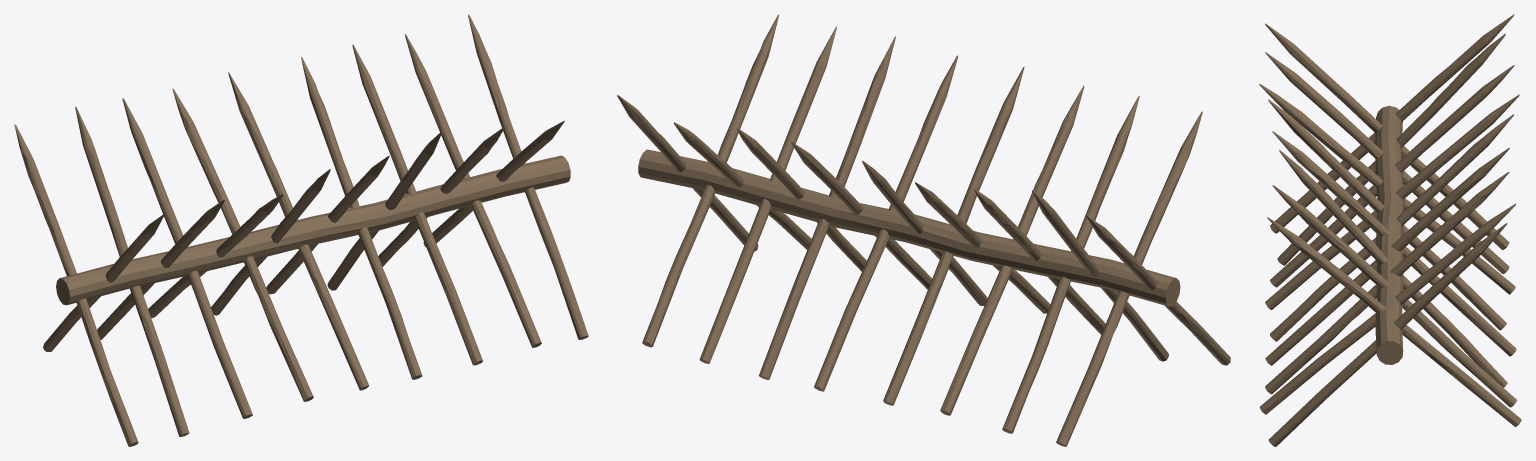
File: siege_spike_b.FBX
3 views of the same model, side by side, from view 1: azimuth 30°, elevation 25°; view 2: azimuth 150°, elevation 25°; view 3: azimuth 270°, elevation 25° (orthographic). The views are drawn at different scales.
Visible parts, largest first — view 1: siege_spike_b; view 2: siege_spike_b; view 3: siege_spike_b.
Part boxes in pixels (bbox=[...]): siege_spike_b: bbox=[14, 14, 588, 446]; siege_spike_b: bbox=[617, 14, 1230, 446]; siege_spike_b: bbox=[1259, 14, 1521, 446].
Bounding box in the file's own units: 3.42 × 1.6 × 1.61.
